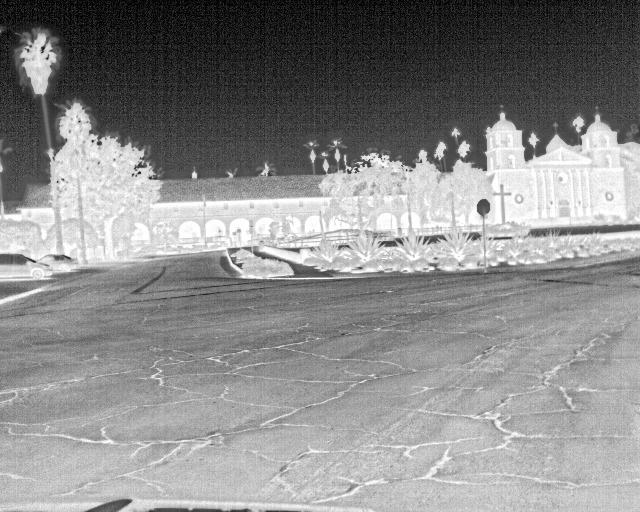car: (1, 249, 54, 280), (37, 252, 75, 273)
